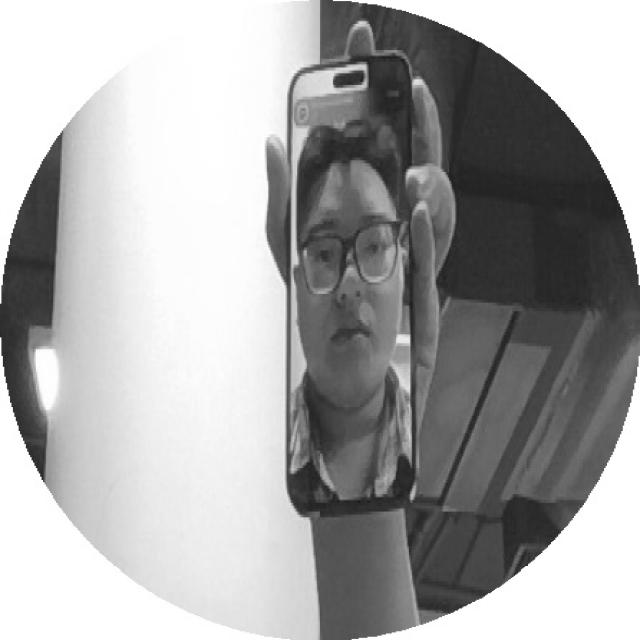fake: (268, 43, 451, 536), (271, 44, 430, 528)
